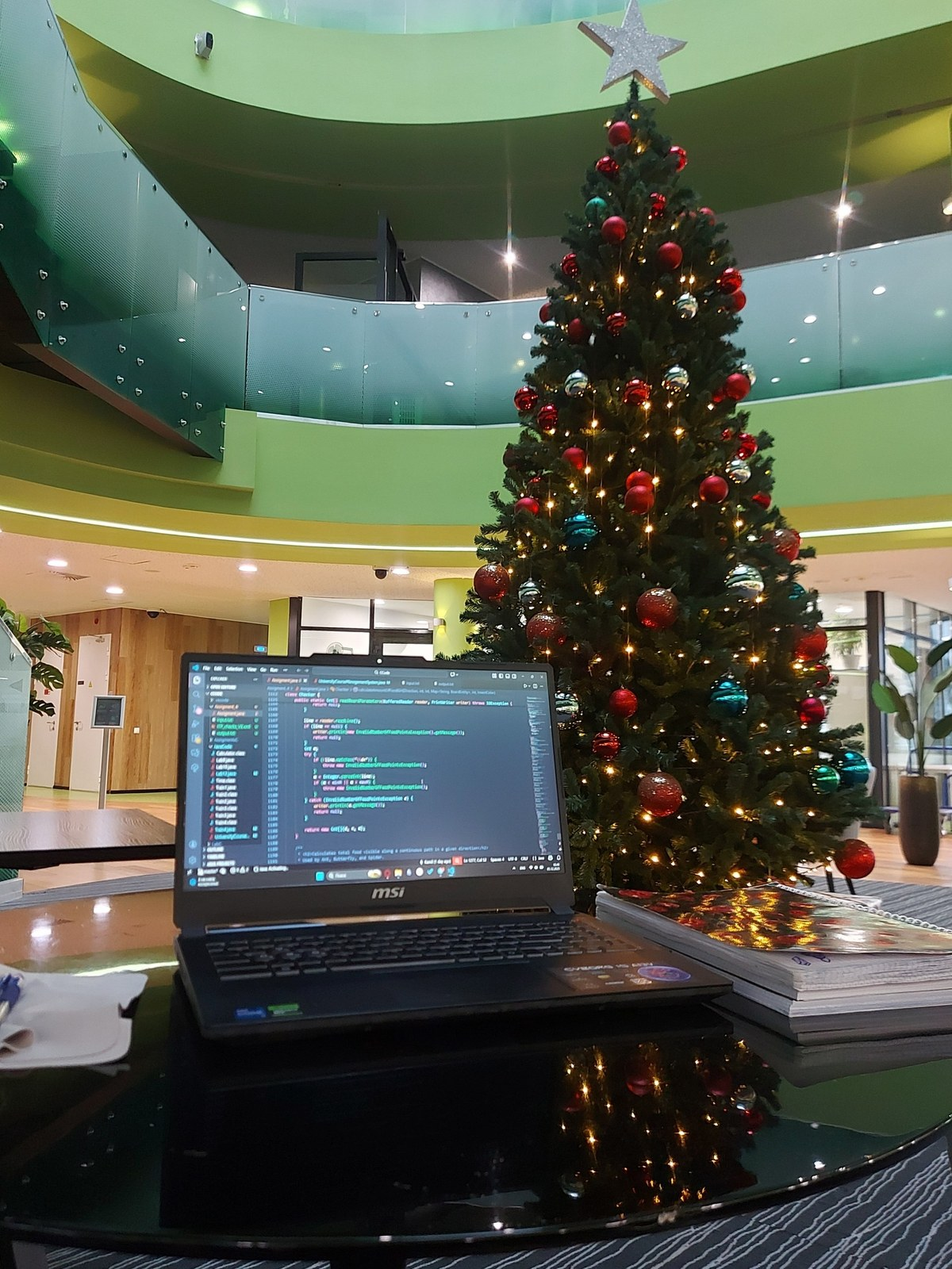laptop: (172, 650, 734, 1042)
